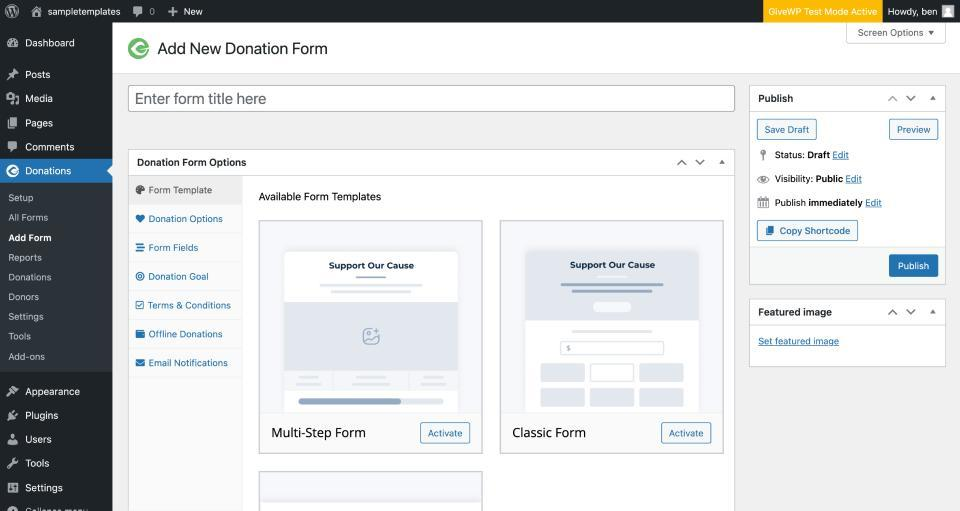button: (765, 1, 883, 23), (759, 222, 860, 242), (758, 119, 818, 142), (421, 423, 472, 446), (663, 423, 713, 445), (889, 256, 939, 277), (890, 120, 939, 141)
dropdown: (131, 151, 734, 174), (750, 299, 948, 327), (750, 85, 948, 112), (847, 24, 947, 46)
icon: (131, 242, 150, 260), (4, 479, 23, 497), (5, 4, 22, 23), (6, 138, 23, 156), (131, 184, 148, 201), (131, 356, 148, 373), (5, 115, 22, 132), (6, 407, 21, 426), (756, 194, 772, 211), (6, 92, 22, 109), (6, 431, 21, 449), (8, 67, 21, 86), (133, 300, 148, 316), (6, 38, 21, 54), (7, 456, 21, 473), (6, 384, 20, 401), (31, 4, 45, 21), (135, 270, 147, 288), (131, 329, 149, 341), (759, 174, 771, 188), (166, 6, 180, 18), (758, 149, 769, 163), (135, 211, 146, 225), (133, 4, 144, 18)
input: (129, 85, 737, 112)
label: (270, 426, 370, 445), (512, 424, 592, 444), (149, 299, 235, 316), (151, 327, 226, 342), (148, 359, 230, 372), (25, 385, 85, 401), (150, 186, 216, 200), (149, 243, 199, 261), (148, 217, 225, 228), (25, 142, 78, 157), (24, 40, 82, 53), (150, 273, 212, 285), (24, 117, 60, 133), (26, 484, 66, 497), (23, 432, 55, 448), (23, 410, 62, 423), (25, 68, 55, 84), (23, 456, 53, 471), (25, 93, 57, 107)
